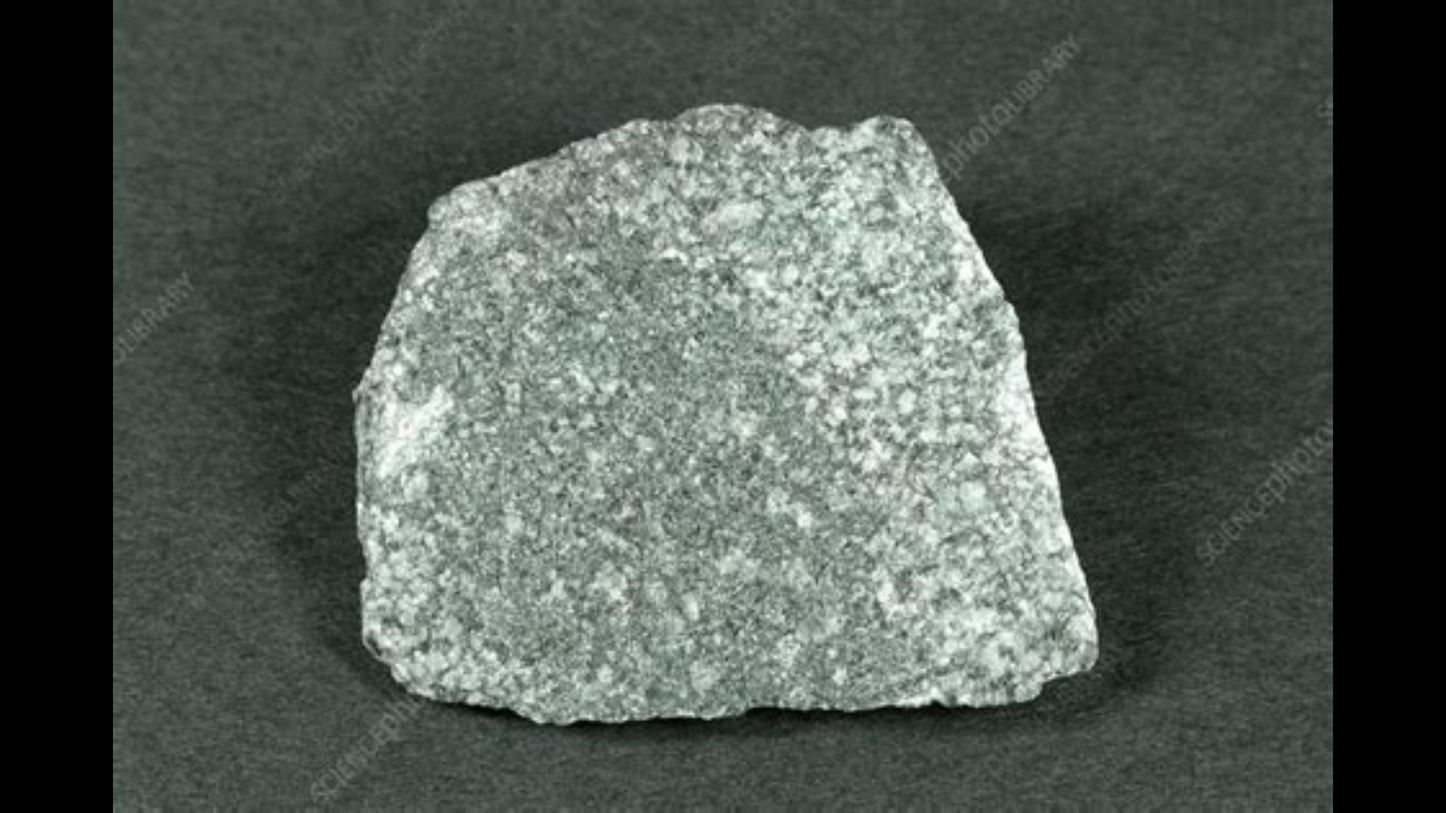rock: (357, 105, 1091, 718)
